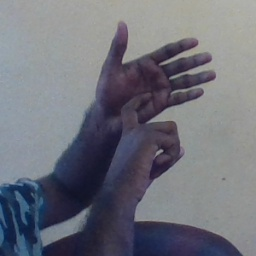R: (88, 18, 217, 177)
